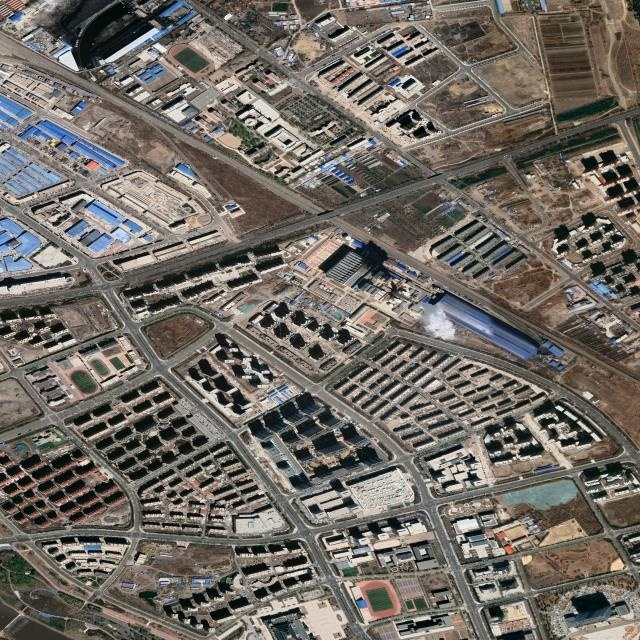coal_fired_power_plant: (326, 247, 442, 323)
